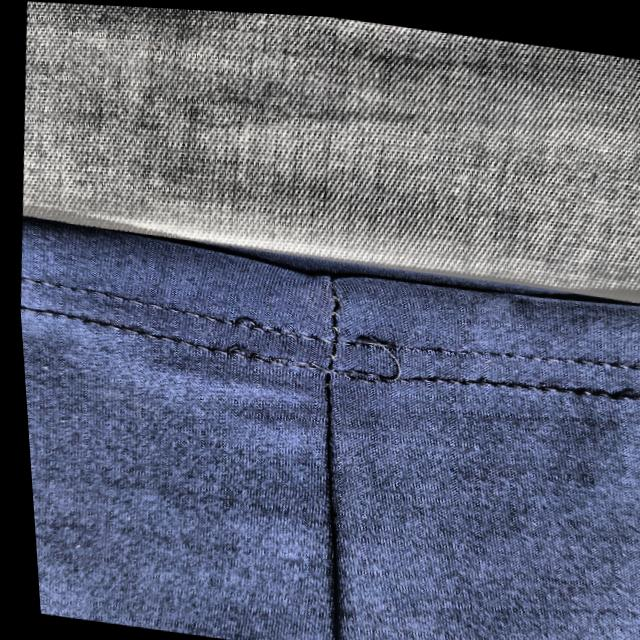Stitch: (290, 317, 420, 410), (183, 287, 284, 400)
